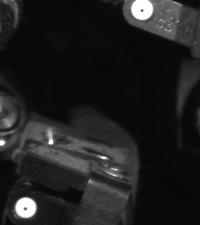fiber: (10, 192, 42, 223), (128, 1, 160, 23)
